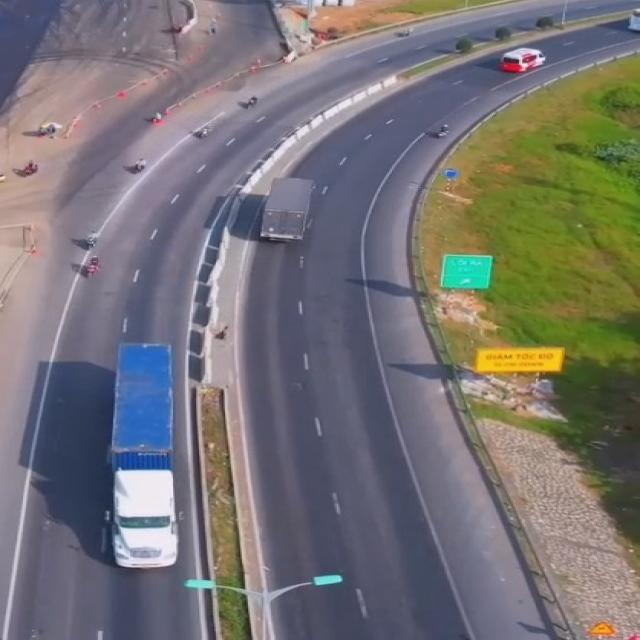bus: (499, 46, 545, 75)
truck: (106, 342, 182, 570), (259, 174, 321, 244)
